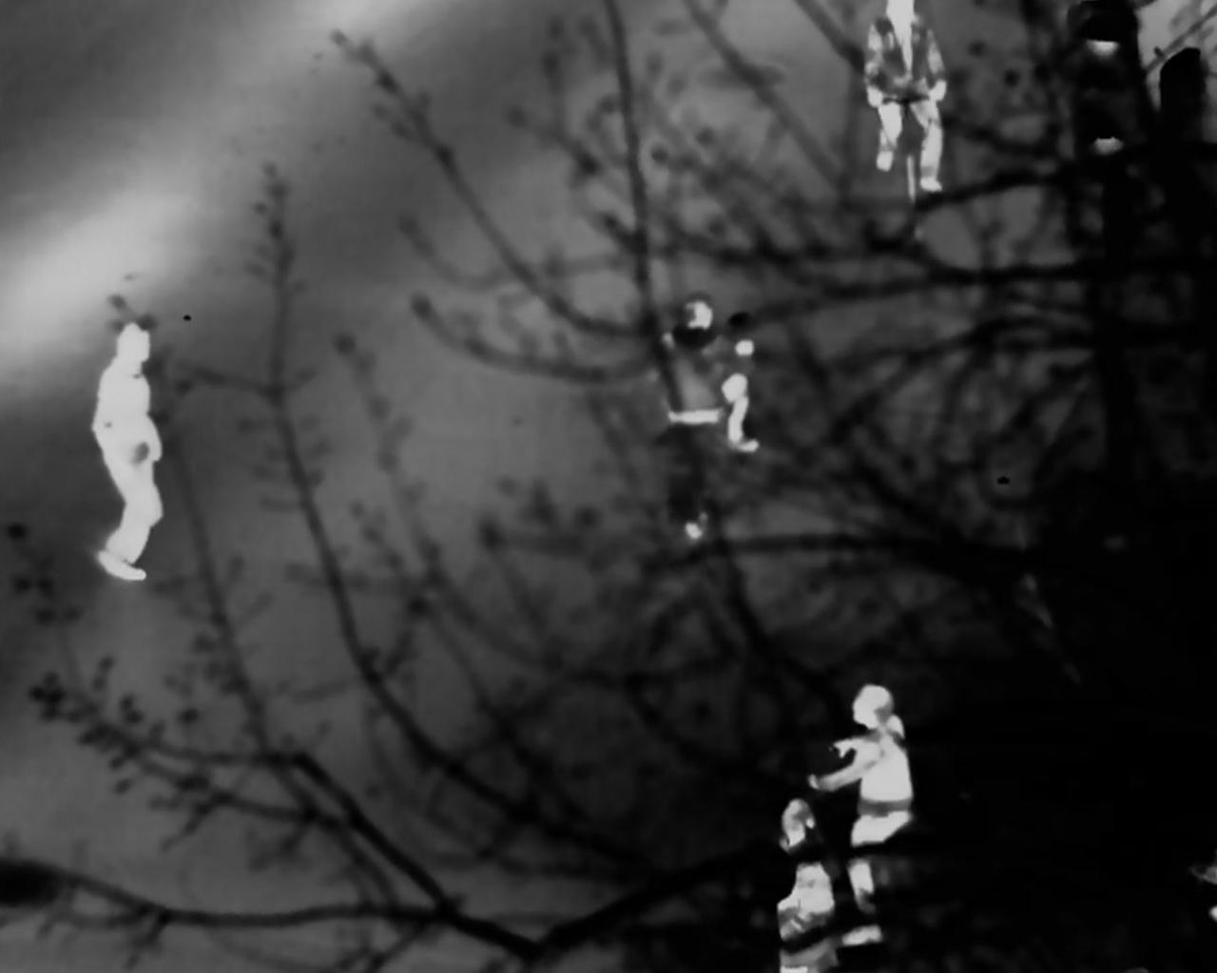person: (89, 313, 171, 576), (832, 685, 919, 880), (757, 803, 853, 971), (667, 297, 762, 461)
